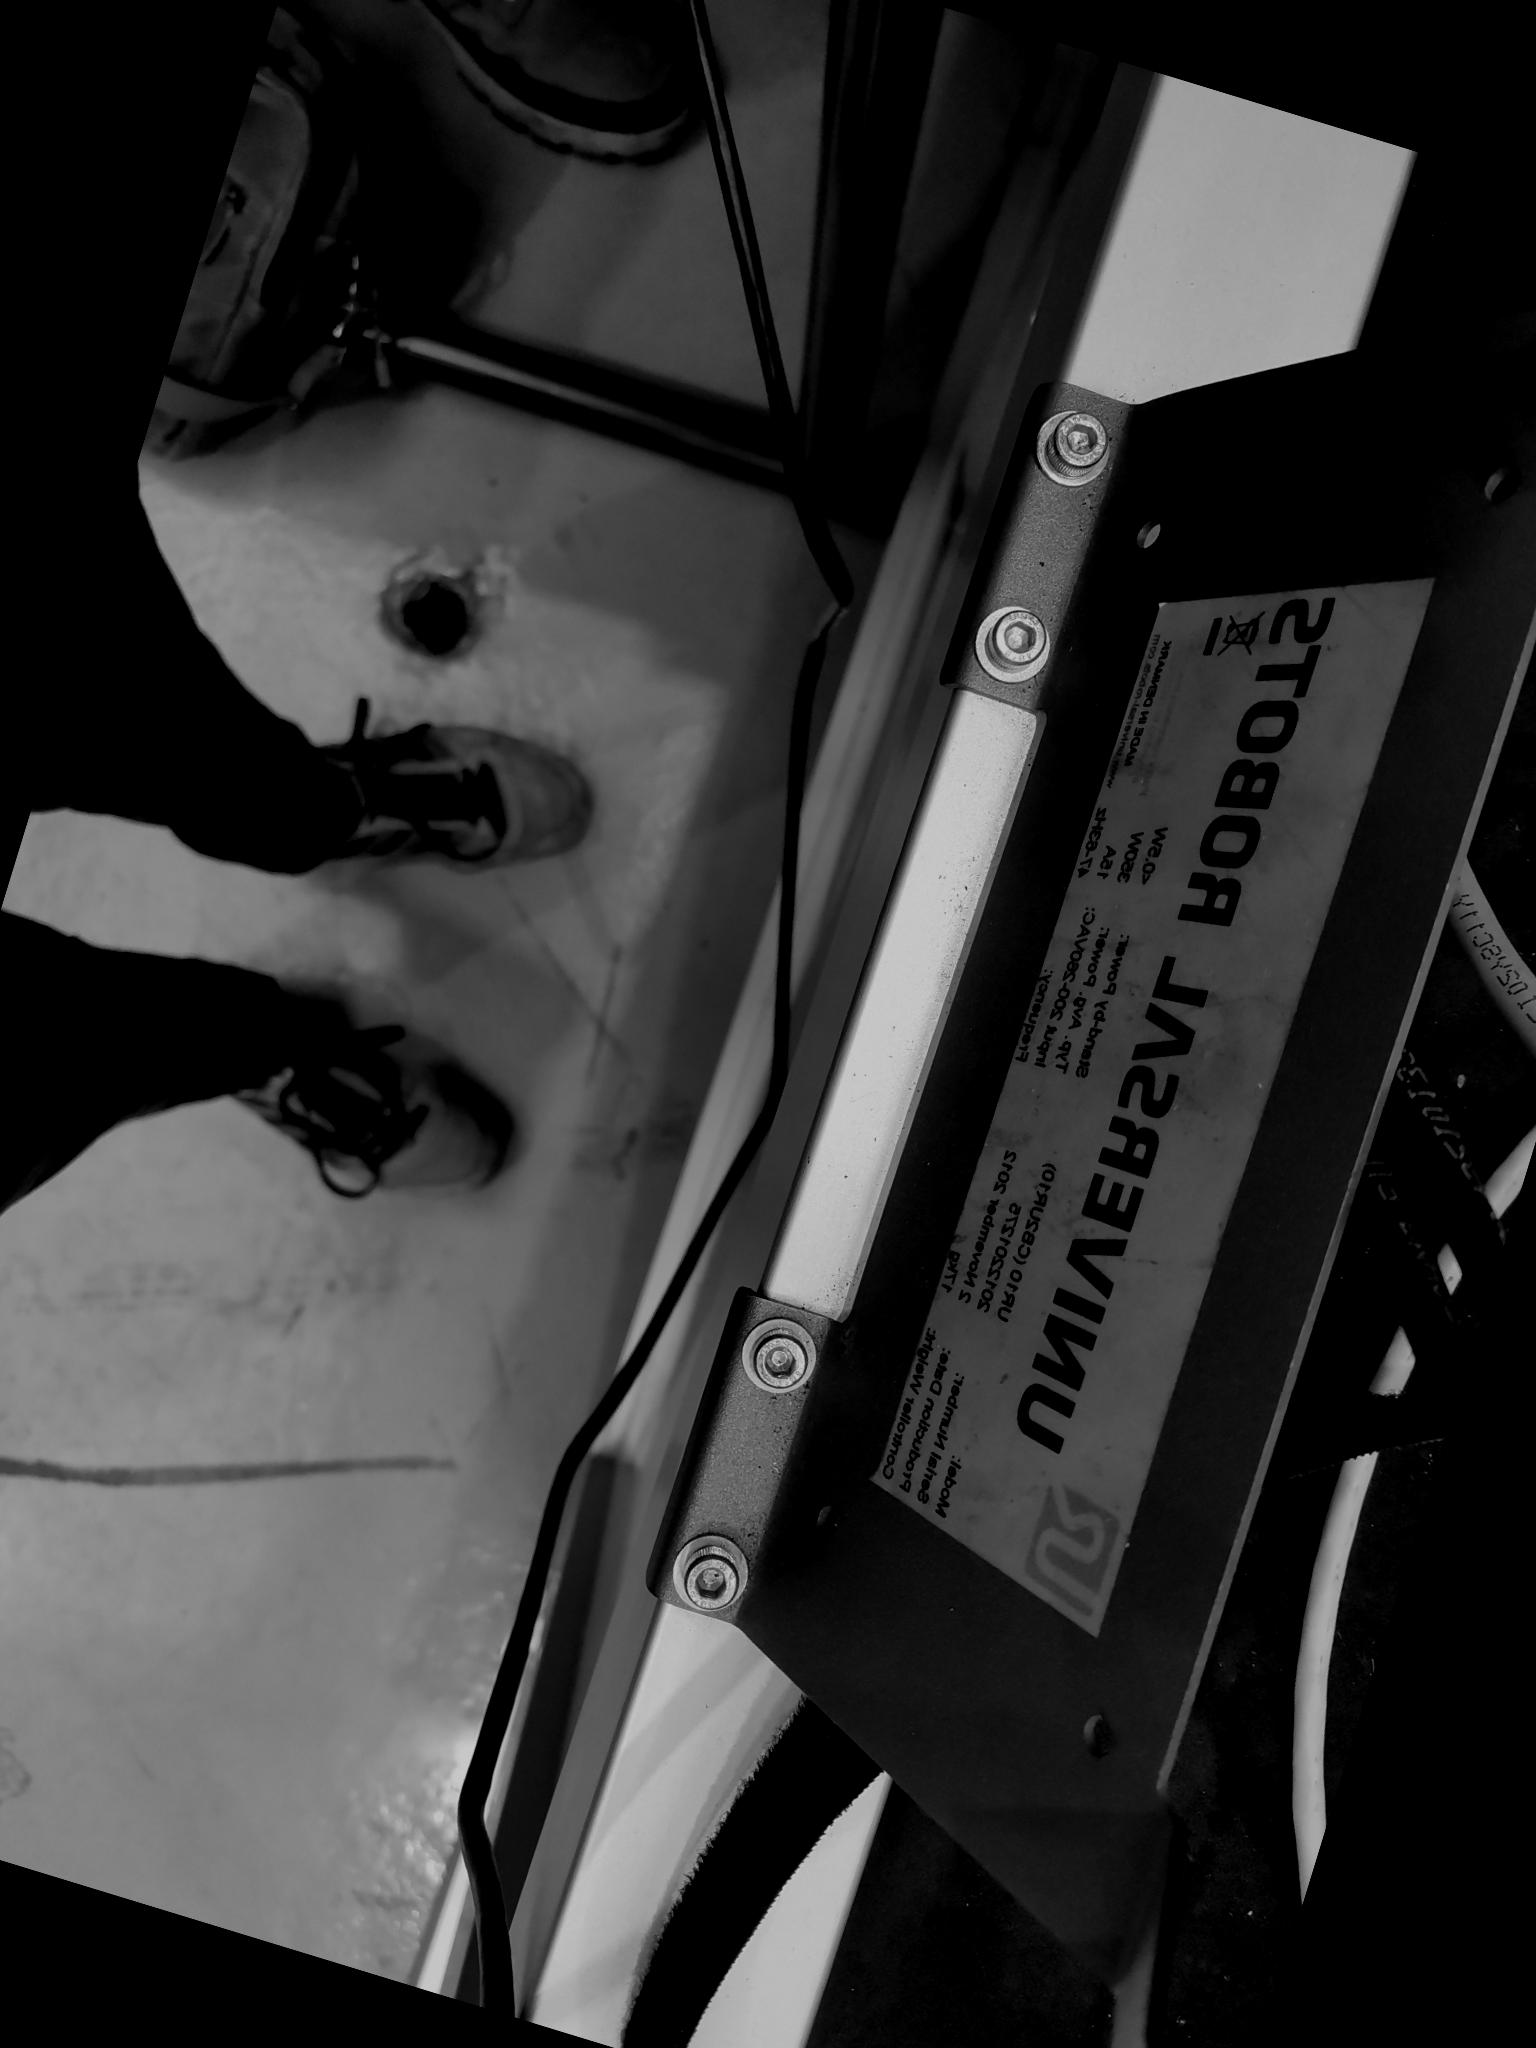allen: (728, 1305, 833, 1406), (1021, 398, 1128, 495), (963, 593, 1063, 692), (668, 1527, 757, 1619)
